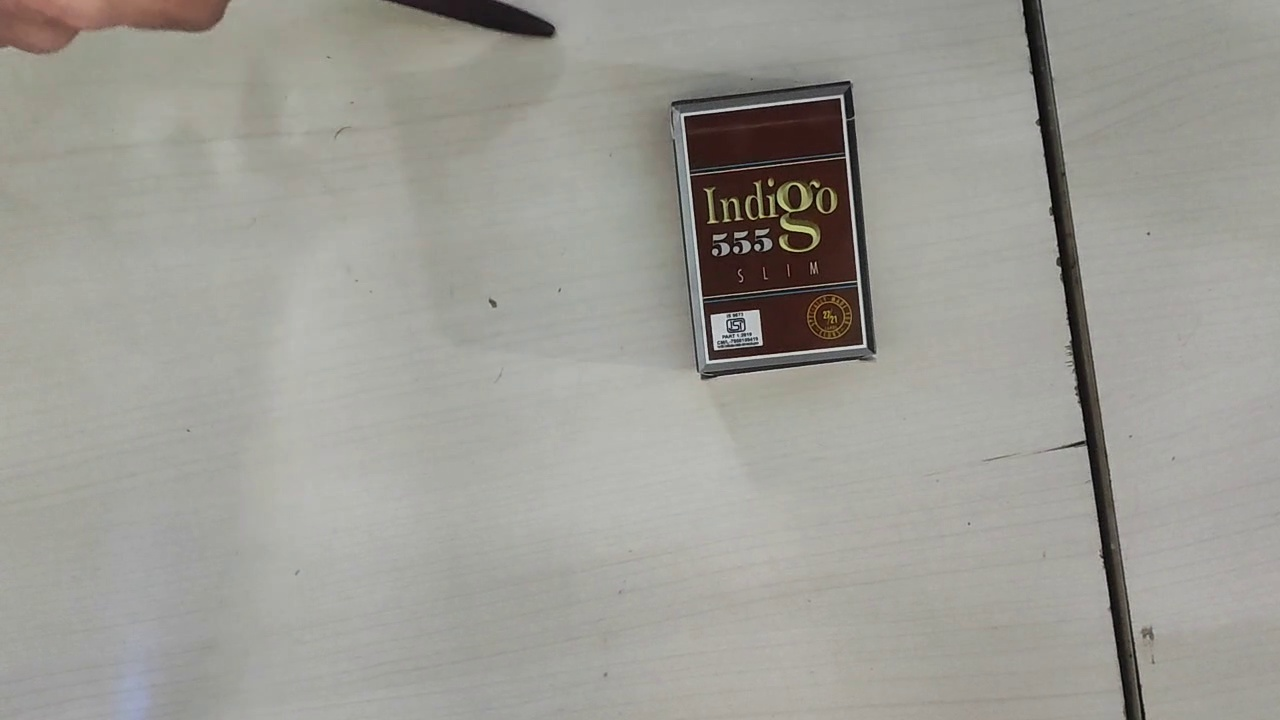BEX: (684, 98, 869, 363)
